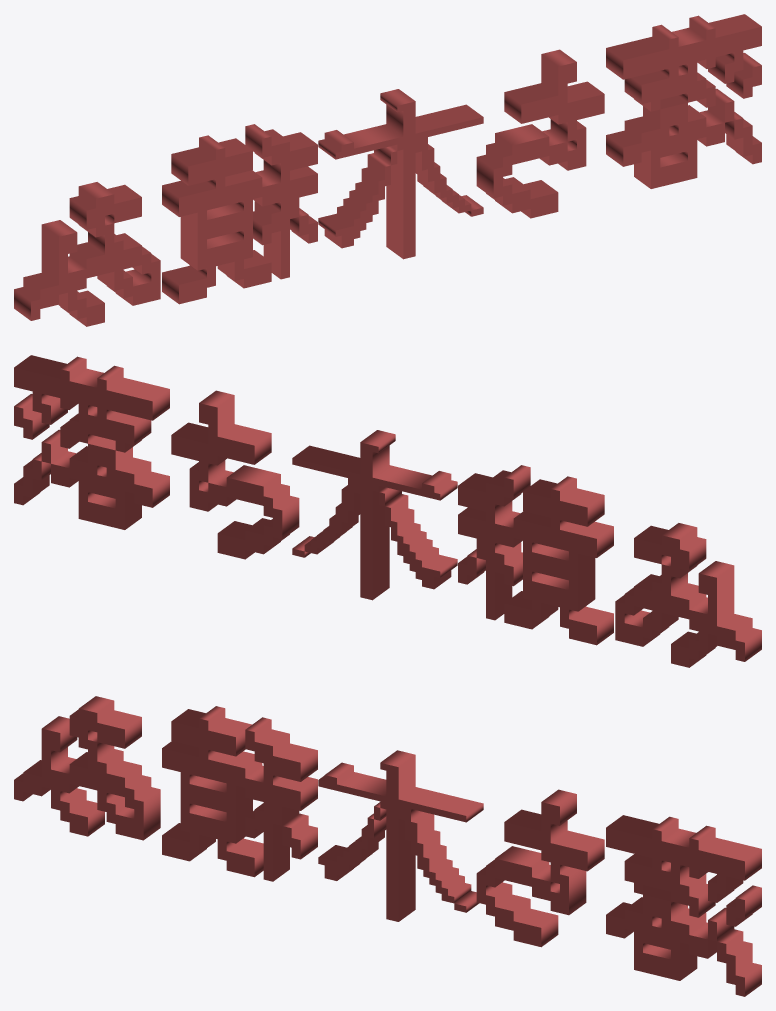
The model's file is TitleText.obj.
The picture shows the model from 3 angles, top to bottom: view 1: azimuth 30°, elevation 25°; view 2: azimuth 150°, elevation 25°; view 3: azimuth 330°, elevation 25°; orthographic projection.
Parts seen in each view (by area): view 1: テキスト.001; view 2: テキスト.001; view 3: テキスト.001.
Boxes of the visible parts, x1=… form: テキスト.001: x1=14, y1=14, x2=761, y2=326; テキスト.001: x1=14, y1=355, x2=761, y2=667; テキスト.001: x1=14, y1=696, x2=761, y2=996.
Size of the model in its own units: 4.94 by 1 by 0.2.
2 materials, 2 textured.
